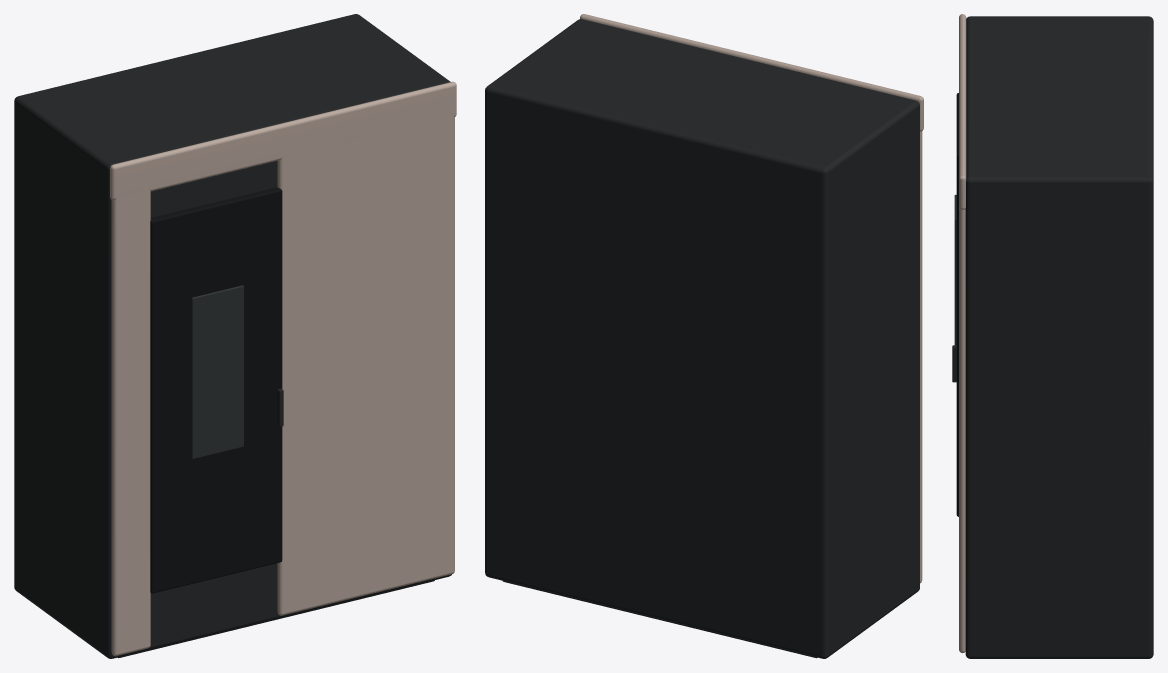
File: nordica-virna-idro16-tortora-matt.glb
3 views of the same model, side by side, from view 1: azimuth 30°, elevation 25°; view 2: azimuth 150°, elevation 25°; view 3: azimuth 270°, elevation 25° (orthographic). The views are drawn at different scales.
Visible parts, largest first — view 1: Corpo, Pannello laterale, Porta, Montante, Cornice superiore, Vetro sportello; view 2: Corpo, Cornice superiore, Montante; view 3: Corpo, Pannello laterale, Cornice superiore, Porta, Vetro sportello.
Boxes of the visible parts, left/top/right/bottom form: Corpo: left=14, top=14, right=451, bottom=658; Pannello laterale: left=277, top=97, right=454, bottom=615; Porta: left=150, top=187, right=282, bottom=593; Montante: left=111, top=169, right=150, bottom=656; Cornice superiore: left=110, top=81, right=456, bottom=200; Vetro sportello: left=191, top=285, right=243, bottom=458; Corpo: left=485, top=19, right=919, bottom=658; Cornice superiore: left=580, top=14, right=923, bottom=131; Montante: left=920, top=131, right=922, bottom=583; Corpo: left=965, top=16, right=1153, bottom=658; Pannello laterale: left=959, top=207, right=965, bottom=653; Cornice superiore: left=959, top=14, right=966, bottom=209; Porta: left=956, top=93, right=958, bottom=516; Vetro sportello: left=954, top=194, right=956, bottom=345.
Bounding box in the file's own units: 0.793 × 1.1 × 0.411.
